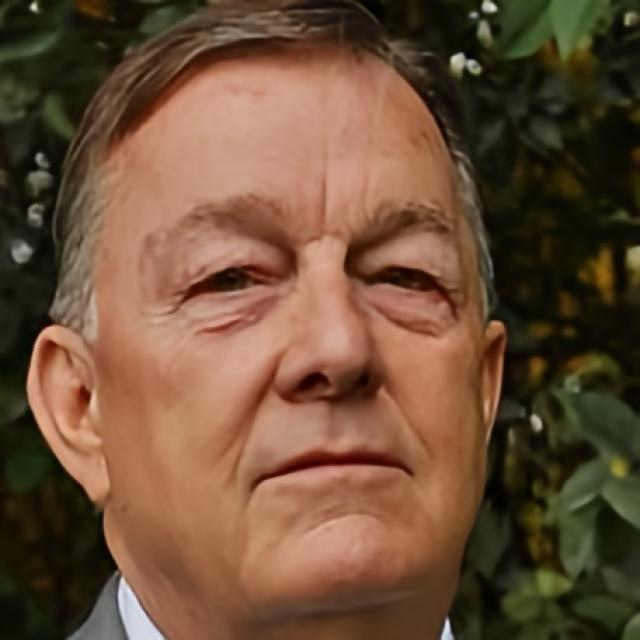neutral: (107, 63, 487, 611)
